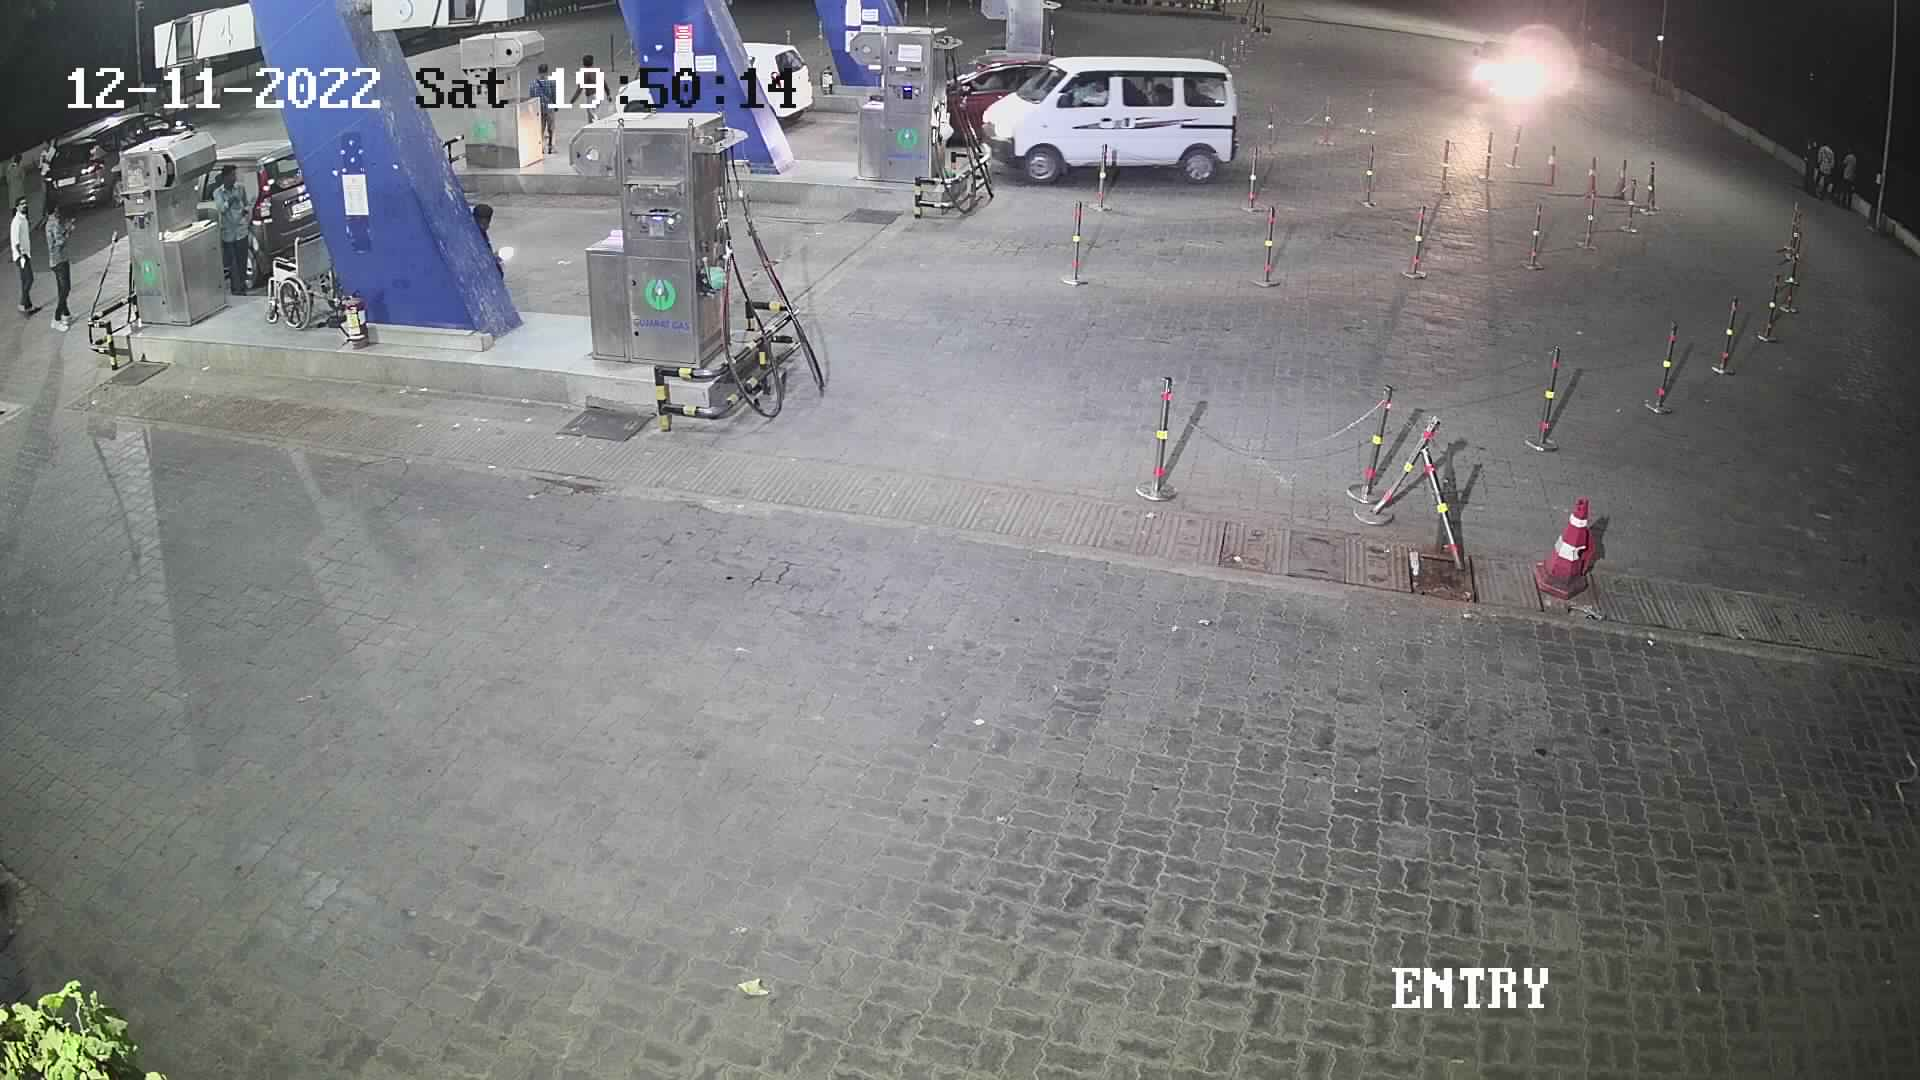Car: (975, 50, 1247, 185), (191, 128, 323, 297), (30, 99, 199, 222), (934, 41, 1062, 160), (1458, 26, 1557, 116), (737, 36, 819, 128)
